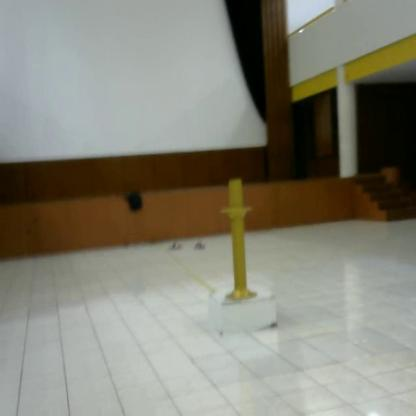pole: (219, 173, 260, 310)
